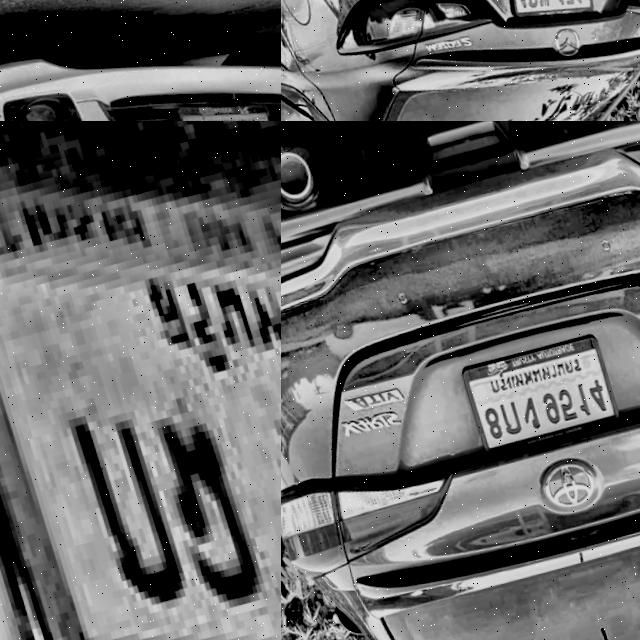license-plate: (0, 121, 281, 640), (451, 335, 620, 469), (483, 0, 601, 44), (164, 85, 281, 121)
